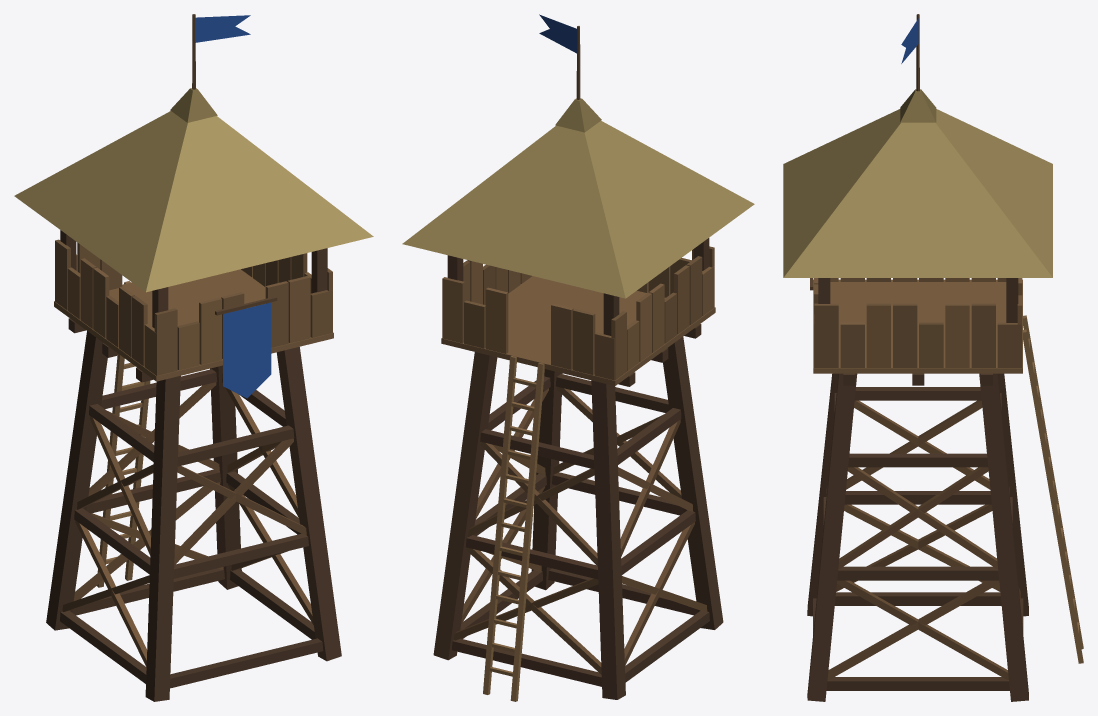
Rendered from watchtower.glb.
3 renders of one model, left to right at view 1: azimuth 30°, elevation 25°; view 2: azimuth 150°, elevation 25°; view 3: azimuth 270°, elevation 25°, orthographic. The views are drawn at different scales.
Visible parts, largest first — view 1: watchtower; view 2: watchtower; view 3: watchtower.
Part boxes in pixels (x1,y1,x2,y2): watchtower: [14, 14, 373, 701]; watchtower: [402, 14, 754, 701]; watchtower: [783, 14, 1083, 701].
Bounding box in the file's own units: 4.5 × 11.83 × 5.01.
